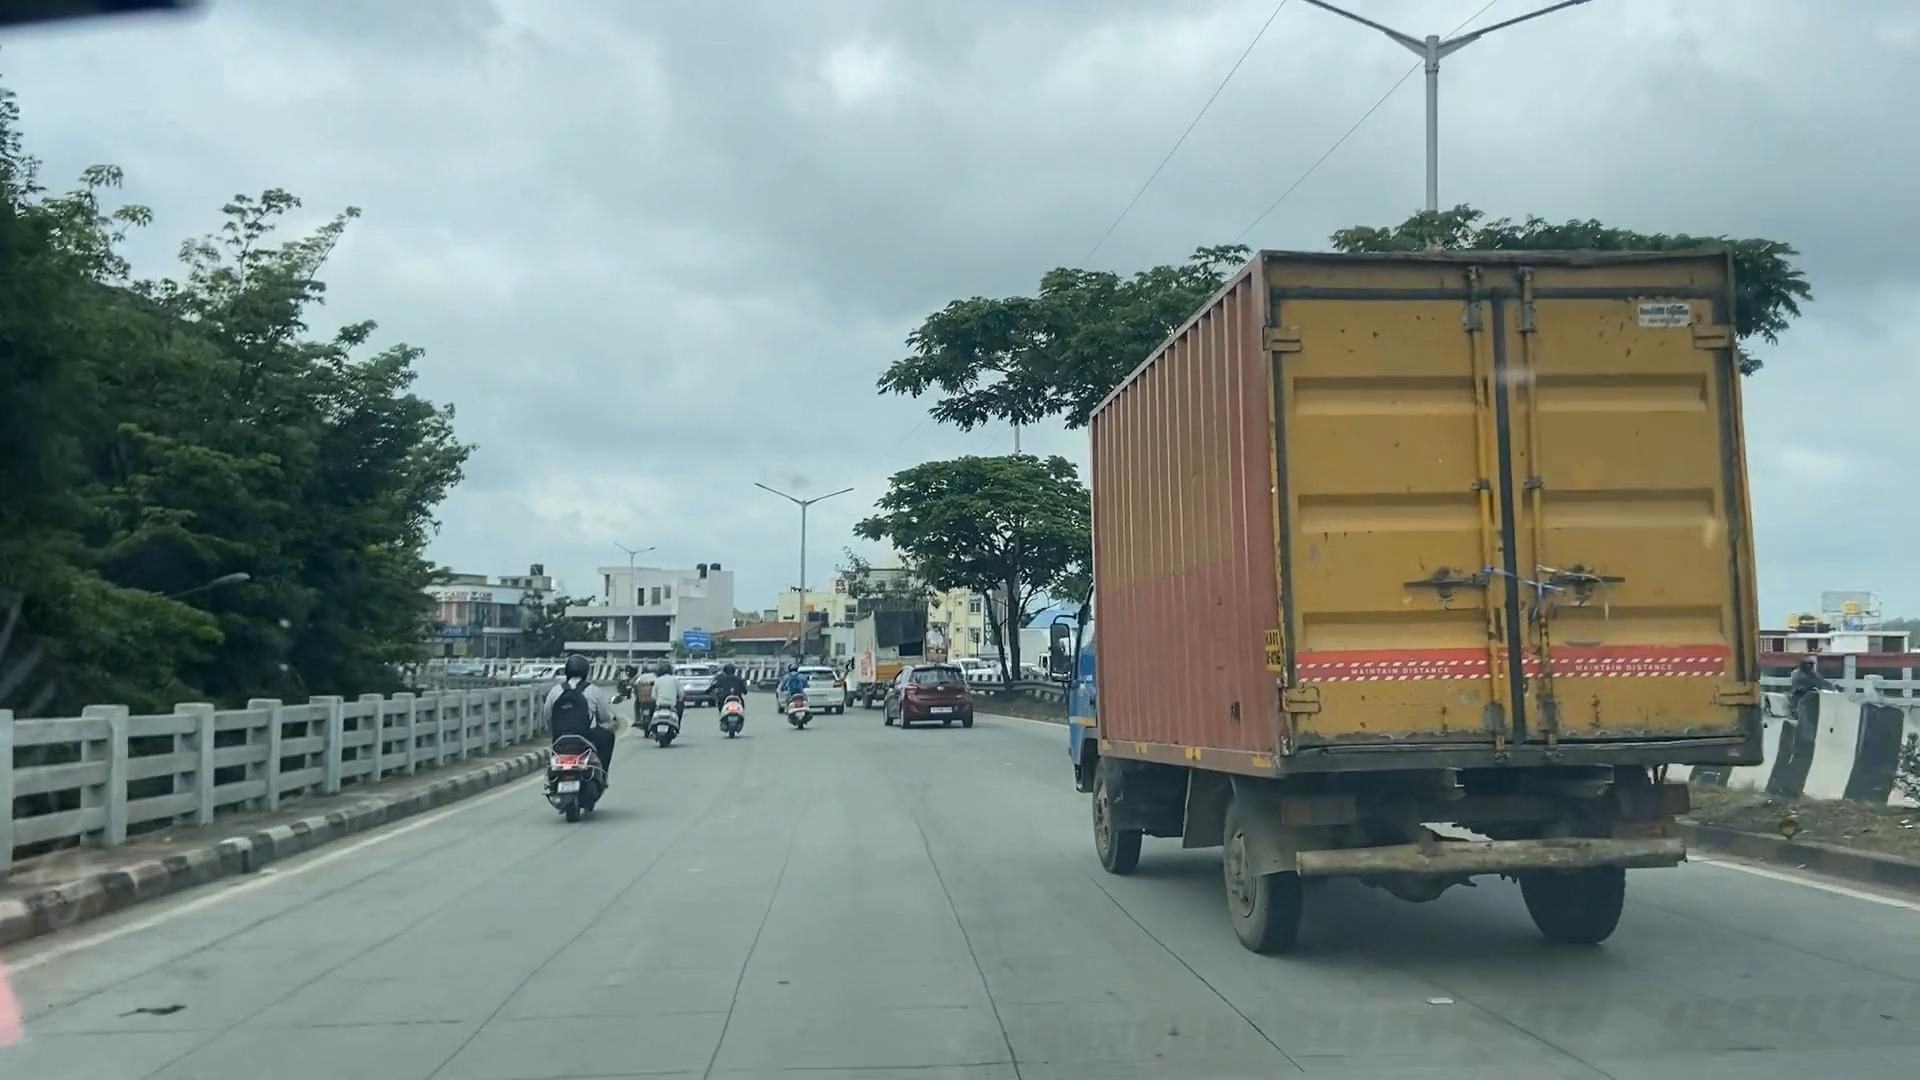HMV: (1153, 266, 1749, 953)
LMV: (526, 647, 624, 799), (890, 655, 984, 742), (650, 666, 702, 744), (778, 655, 824, 737), (717, 694, 738, 741)
